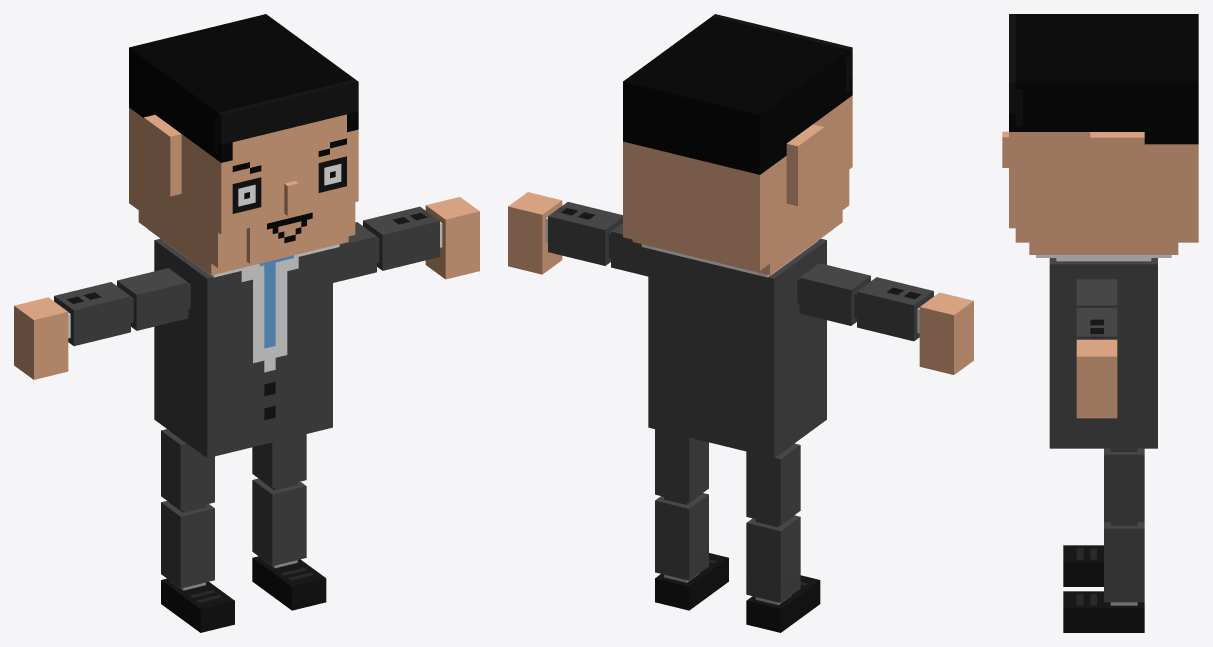
File: Human2.obj
3 renders of one model, left to right at view 1: azimuth 30°, elevation 25°; view 2: azimuth 150°, elevation 25°; view 3: azimuth 270°, elevation 25°, orthographic. The views are drawn at different scales.
Parts seen in each view (by area): view 1: Human2; view 2: Human2; view 3: Human2.
Part boxes in pixels (x1,y1,x2,y2): Human2: (14, 14, 479, 632); Human2: (508, 14, 973, 632); Human2: (1002, 14, 1198, 632).
Size of the model in its own units: 78 by 90 by 29.
1 material, 1 textured.
